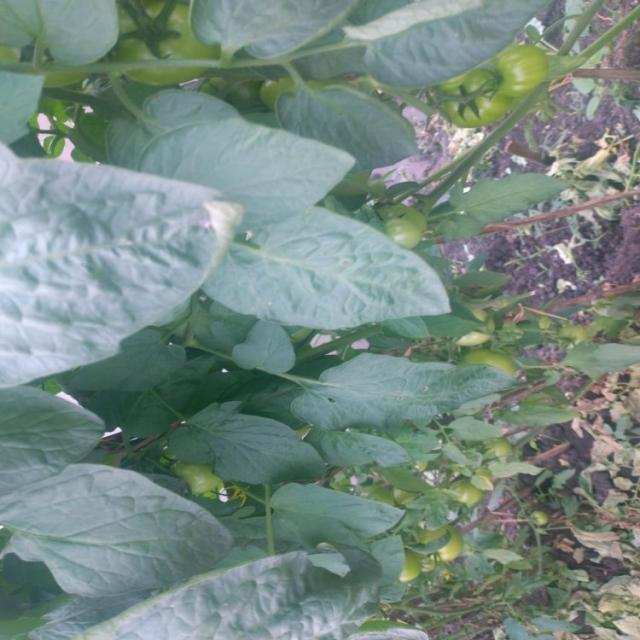tomato: (103, 1, 205, 82), (487, 34, 563, 98), (441, 70, 512, 138), (375, 188, 423, 255), (172, 452, 219, 505), (394, 544, 434, 590), (433, 529, 470, 570), (445, 474, 481, 515), (469, 338, 514, 367), (547, 324, 588, 351)
